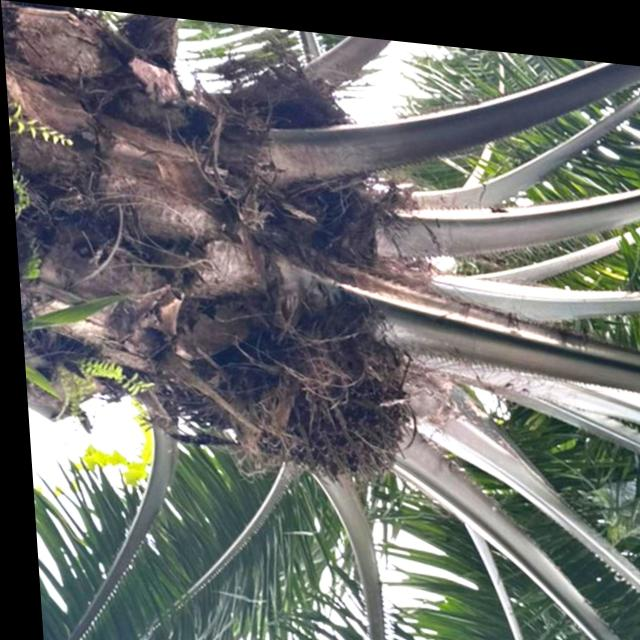ripe: (221, 275, 426, 505)
